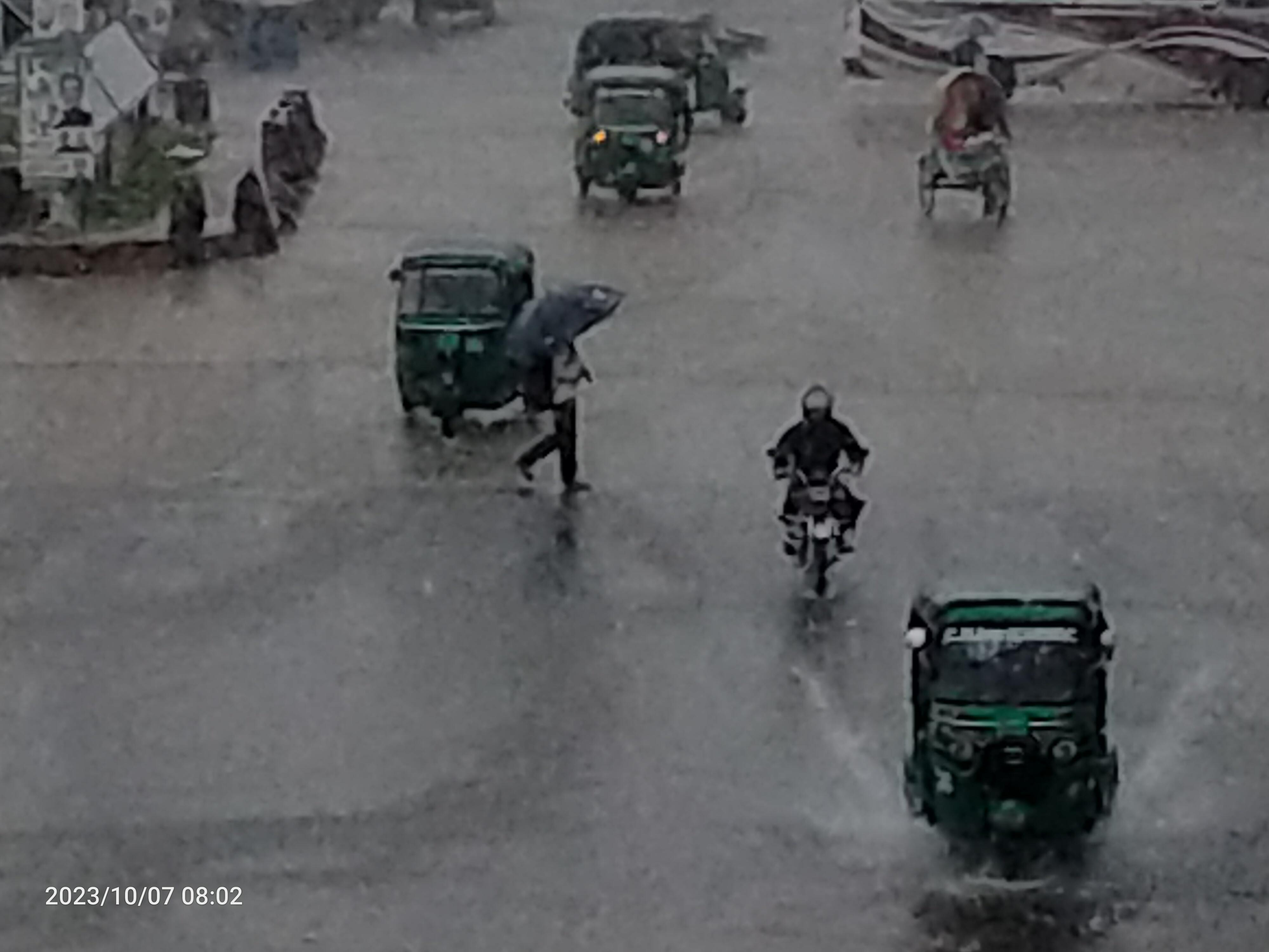Bike: (745, 362, 890, 633)
Bus: (829, 3, 1269, 130)
Car: (900, 51, 1039, 248)
